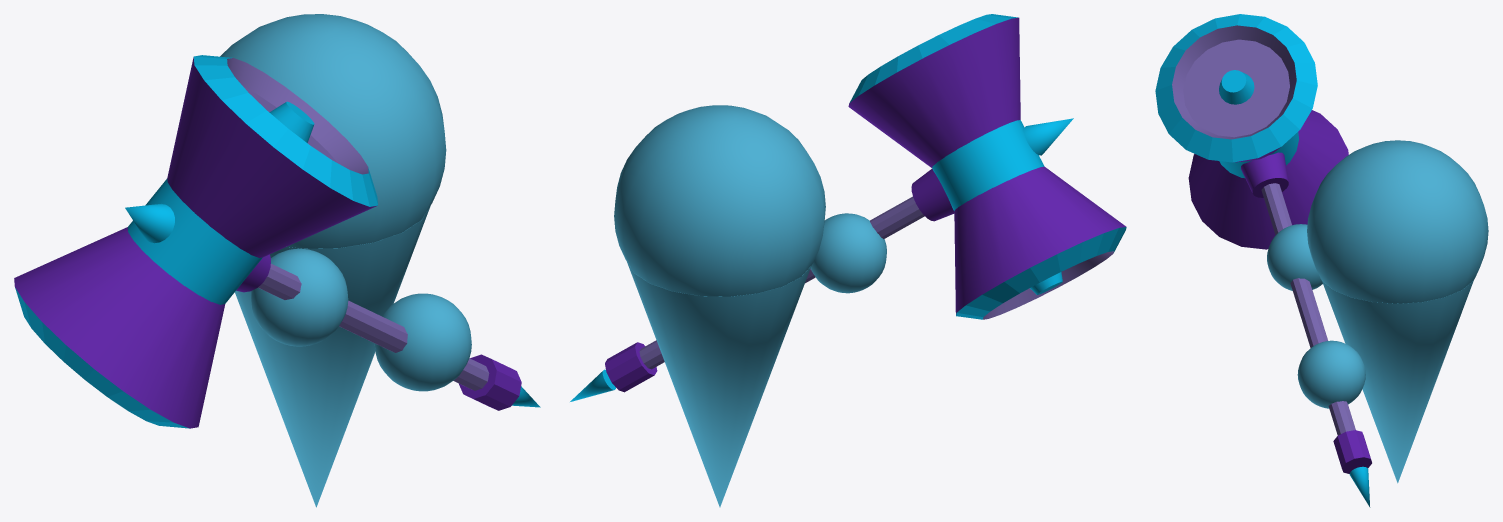
Rendered from playerSmash.fbx.
3 views of the same model, side by side, from view 1: azimuth 30°, elevation 25°; view 2: azimuth 150°, elevation 25°; view 3: azimuth 270°, elevation 25° (orthographic). The views are drawn at different scales.
Parts seen in each view (by area): view 1: pCone4, pSphere1, pCone1, pSphere2, pSphere3; view 2: pCone4, pSphere1, pCone1, pSphere3; view 3: pCone4, pSphere1, pCone1, pSphere2, pSphere3.
Boxes of the visible parts, left/top/right/bottom form: pCone4: left=14, top=55, right=540, bottom=428; pSphere1: left=220, top=14, right=446, bottom=248; pCone1: left=235, top=206, right=430, bottom=507; pSphere2: left=374, top=293, right=471, bottom=391; pSphere3: left=251, top=248, right=348, bottom=346; pCone4: left=570, top=14, right=1126, bottom=401; pSphere1: left=614, top=105, right=825, bottom=296; pCone1: left=627, top=262, right=811, bottom=507; pSphere3: left=810, top=213, right=886, bottom=293; pCone4: left=1155, top=14, right=1371, bottom=507; pSphere1: left=1307, top=140, right=1488, bottom=303; pCone1: left=1322, top=280, right=1473, bottom=483; pSphere2: left=1297, top=340, right=1365, bottom=408; pSphere3: left=1267, top=224, right=1322, bottom=290.
Bounding box in the file's own units: 1.34 × 1.24 × 0.9488.
